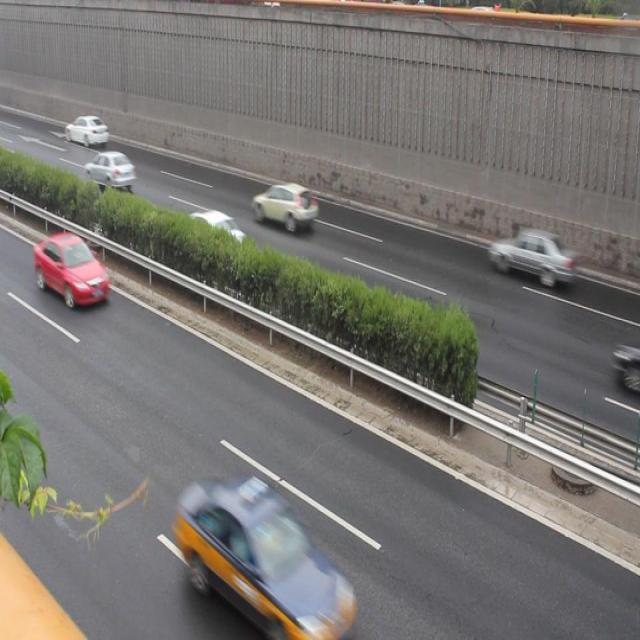car: (181, 482, 348, 631), (486, 224, 574, 286), (34, 232, 106, 305), (176, 208, 244, 264), (252, 180, 318, 237), (84, 148, 136, 192), (612, 335, 640, 402), (65, 115, 109, 148)
